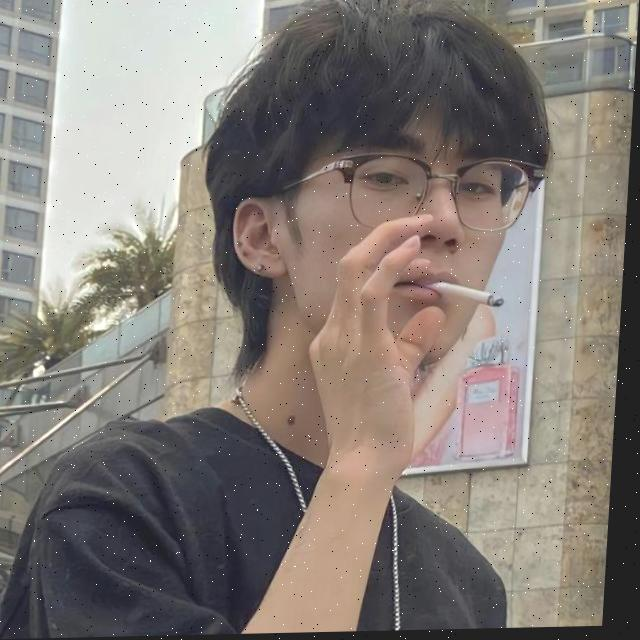cigarette: (431, 277, 509, 312)
